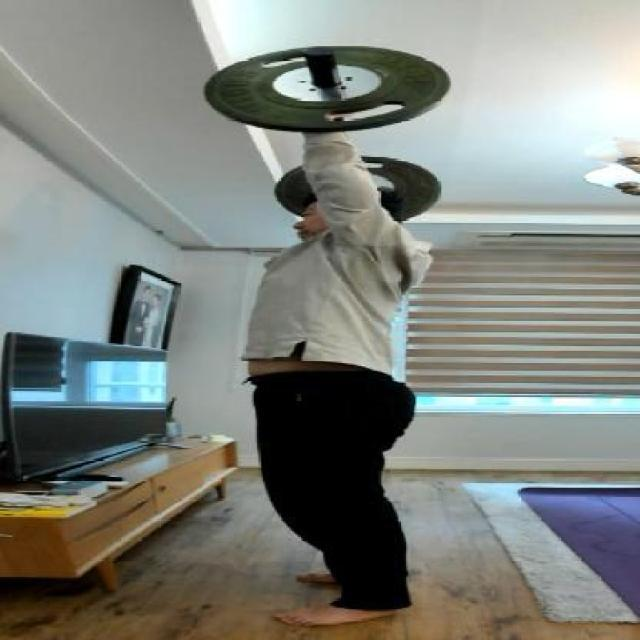barbell: (198, 41, 458, 137)
